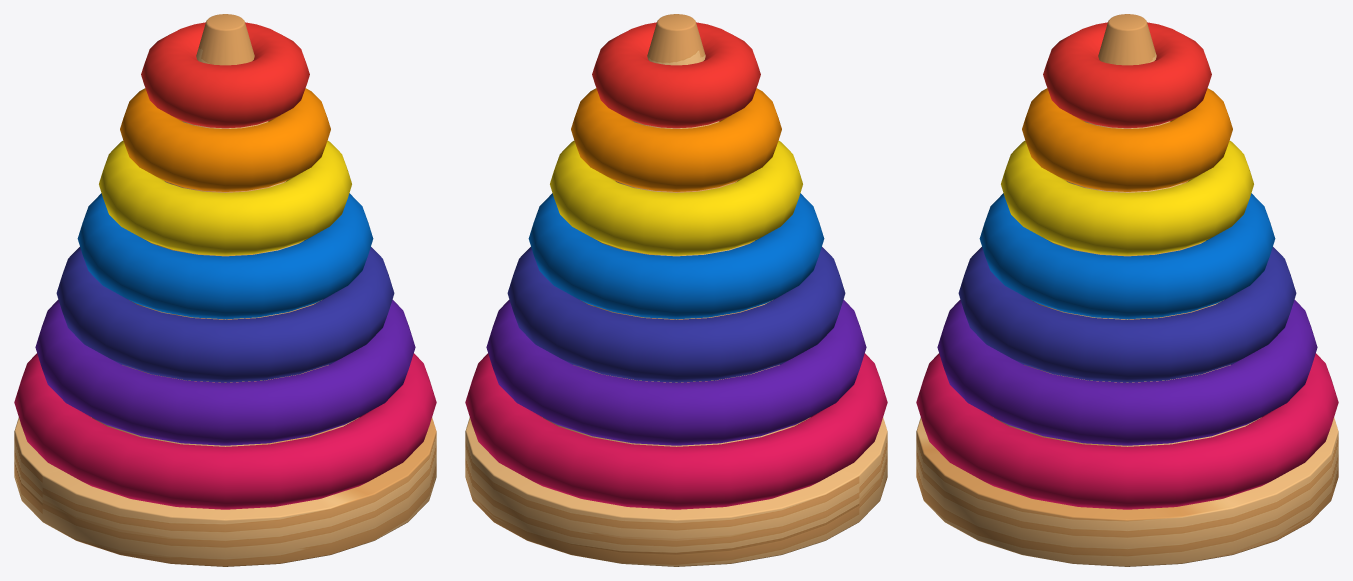
Rendered from CircleTower.fbx.
3 views of the same model, side by side, from view 1: azimuth 30°, elevation 25°; view 2: azimuth 150°, elevation 25°; view 3: azimuth 270°, elevation 25° (orthographic).
Visible parts, largest first — view 1: Base, Circle1, Circle2, Circle3, Circle4, Circle5, Circle6, Circle7; view 2: Base, Circle1, Circle2, Circle3, Circle4, Circle5, Circle6, Circle7; view 3: Base, Circle1, Circle2, Circle3, Circle4, Circle5, Circle6, Circle7.
Part boxes in pixels (left/top/right/bottom): Base: left=14, top=14, right=436, bottom=566; Circle1: left=14, top=353, right=436, bottom=509; Circle2: left=35, top=299, right=415, bottom=445; Circle3: left=56, top=247, right=394, bottom=382; Circle4: left=77, top=193, right=373, bottom=319; Circle5: left=99, top=141, right=351, bottom=255; Circle6: left=120, top=88, right=330, bottom=191; Circle7: left=141, top=22, right=309, bottom=128; Base: left=465, top=14, right=887, bottom=566; Circle1: left=465, top=353, right=887, bottom=509; Circle2: left=486, top=299, right=866, bottom=445; Circle3: left=507, top=247, right=845, bottom=382; Circle4: left=528, top=193, right=824, bottom=319; Circle5: left=550, top=141, right=802, bottom=255; Circle6: left=571, top=88, right=781, bottom=191; Circle7: left=592, top=22, right=760, bottom=128; Base: left=916, top=14, right=1338, bottom=566; Circle1: left=916, top=353, right=1338, bottom=509; Circle2: left=937, top=299, right=1317, bottom=445; Circle3: left=958, top=247, right=1296, bottom=382; Circle4: left=979, top=193, right=1275, bottom=319; Circle5: left=1001, top=141, right=1253, bottom=255; Circle6: left=1022, top=88, right=1232, bottom=191; Circle7: left=1043, top=22, right=1211, bottom=128.
Bounding box in the file's own units: 25.11 × 29.94 × 25.11.
